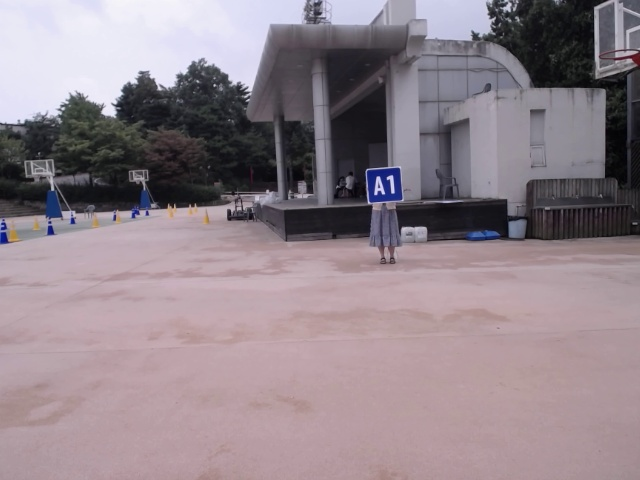delivery_a1: (367, 167, 403, 203)
